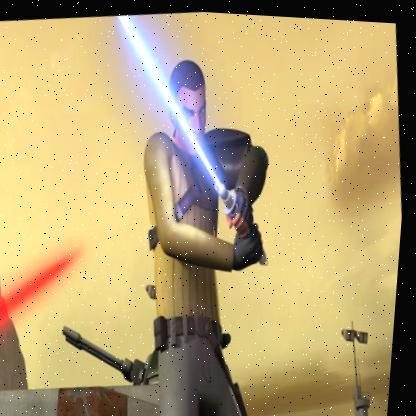lightsaber: (93, 7, 289, 286)
